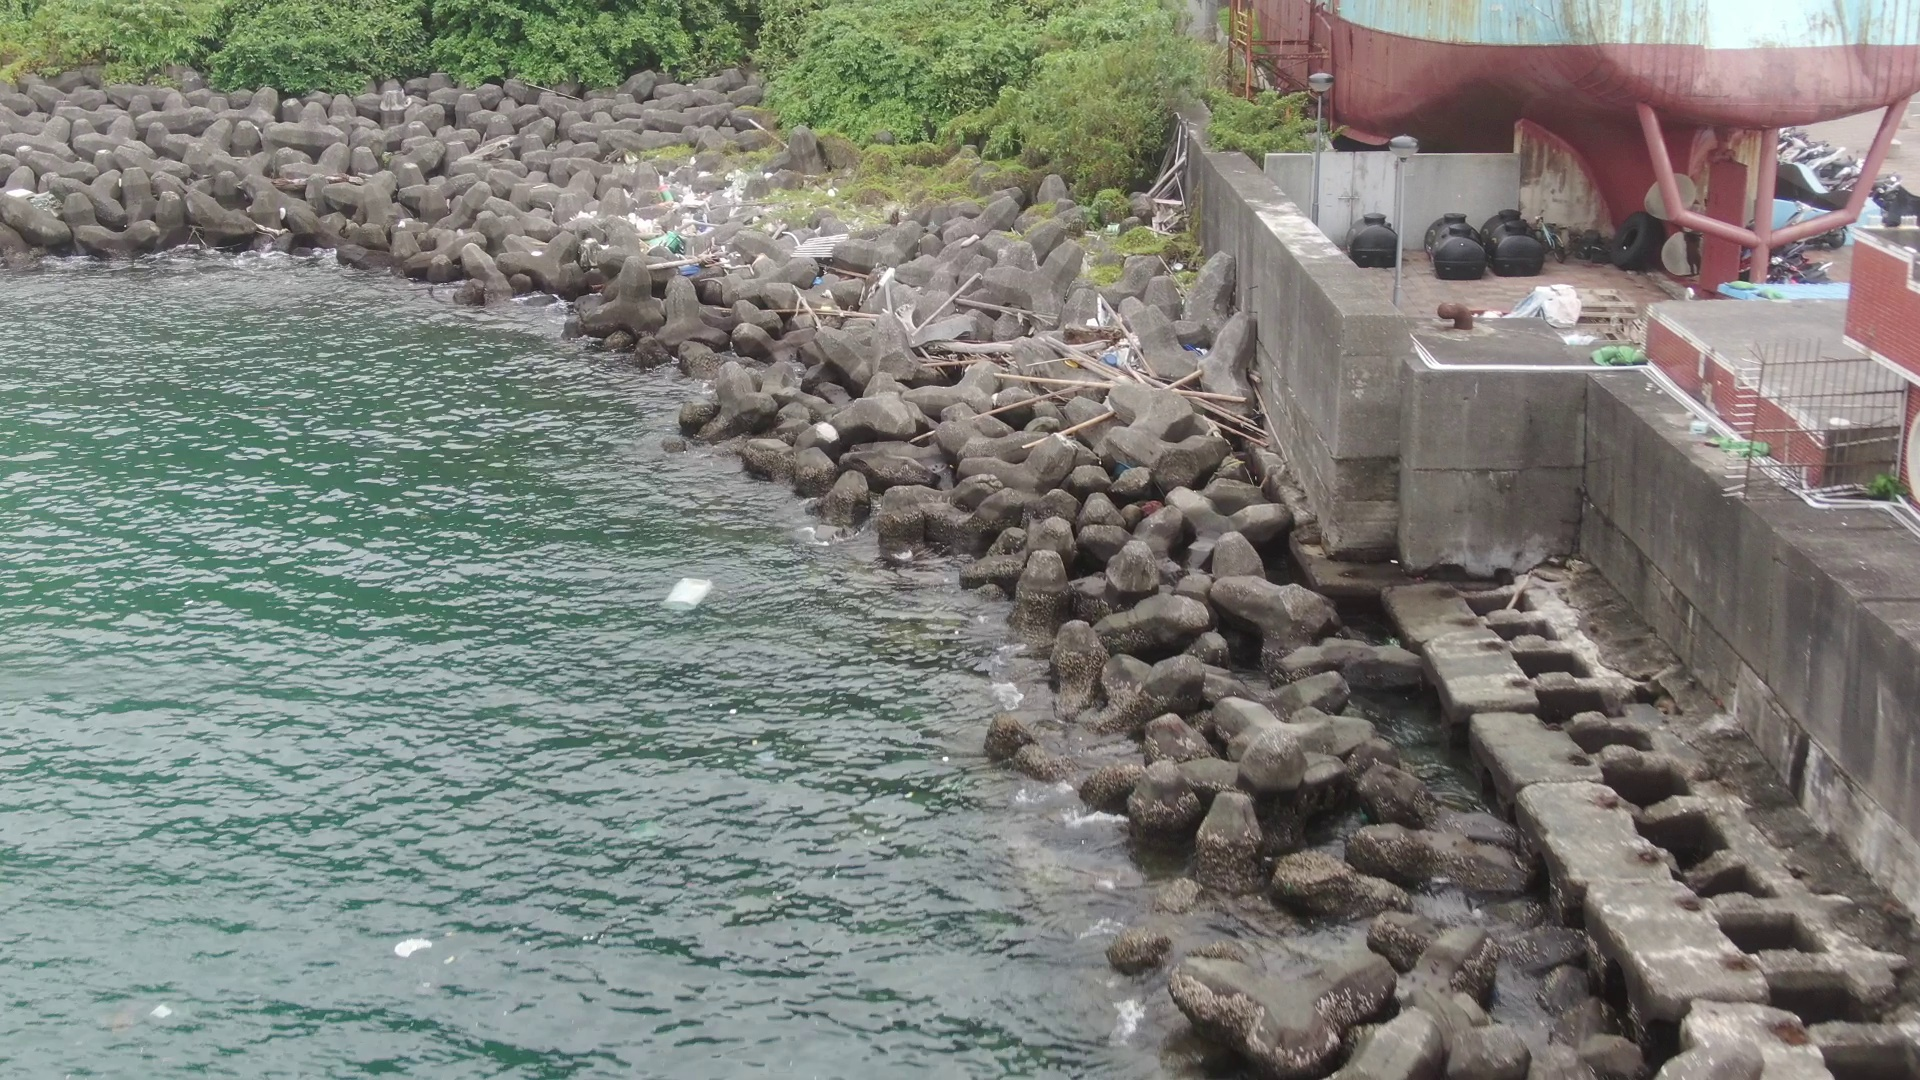garbage: (794, 266, 1265, 448), (584, 142, 849, 280), (1491, 276, 1592, 335), (1691, 418, 1772, 458), (659, 566, 713, 615), (386, 920, 436, 967), (1590, 343, 1644, 367), (141, 996, 177, 1031)
